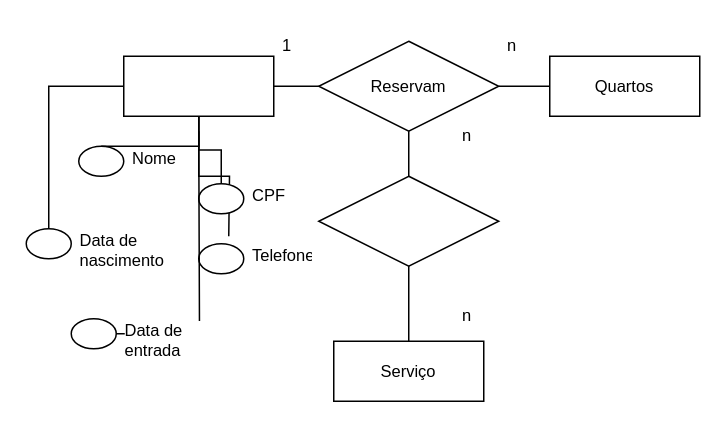
Some shapes in this 726 by 428 pixel diagram are drawn without their labels. Each missing label, with the centre of its shape:
"Clientes" belongs at (x=198, y=85).
"Requisita" belongs at (x=408, y=220).
